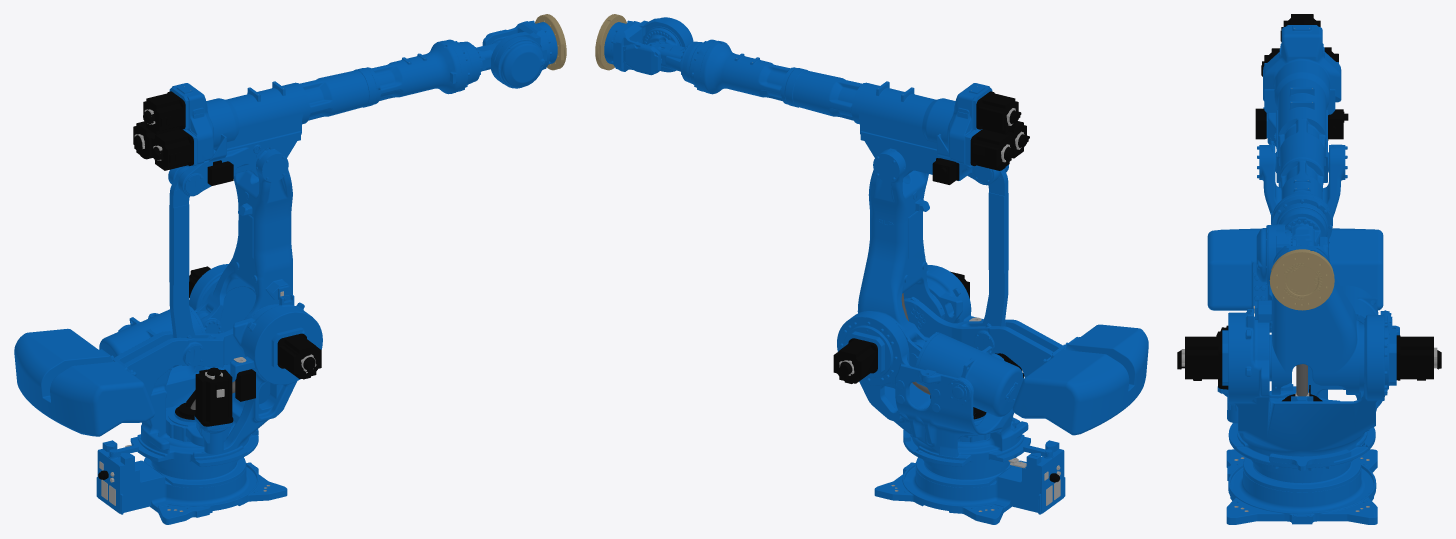
File: Yaskawa_GP400.glb
3 views of the same model, side by side, from view 1: azimuth 30°, elevation 25°; view 2: azimuth 150°, elevation 25°; view 3: azimuth 270°, elevation 25° (orthographic). The views are drawn at different scales.
Parts seen in each view (by area): view 1: link_1, link_3, link_2, link_0, link_5, link_4, link_6; view 2: link_1, link_3, link_2, link_0, link_5, link_4, link_6; view 3: link_1, link_3, link_2, link_0, link_6, link_5, link_4.
Boxes of the visible parts, x1,y1,x2,y2 form: link_1: (14, 264, 322, 479); link_3: (133, 39, 472, 196); link_2: (169, 147, 292, 355); link_0: (96, 440, 287, 524); link_5: (482, 20, 557, 88); link_4: (459, 40, 501, 83); link_6: (535, 14, 566, 70); link_1: (833, 264, 1148, 479); link_3: (689, 39, 1029, 185); link_2: (857, 148, 1008, 367); link_0: (874, 440, 1065, 524); link_5: (604, 17, 693, 75); link_4: (642, 28, 702, 83); link_6: (595, 14, 626, 70); link_1: (1177, 228, 1441, 483); link_3: (1255, 14, 1348, 239); link_2: (1253, 141, 1359, 394); link_0: (1226, 383, 1377, 524); link_6: (1269, 249, 1334, 310); link_5: (1256, 224, 1328, 285); link_4: (1278, 208, 1326, 245).
Bounding box in the file's own units: 3.32 × 2.46 × 1.29.
